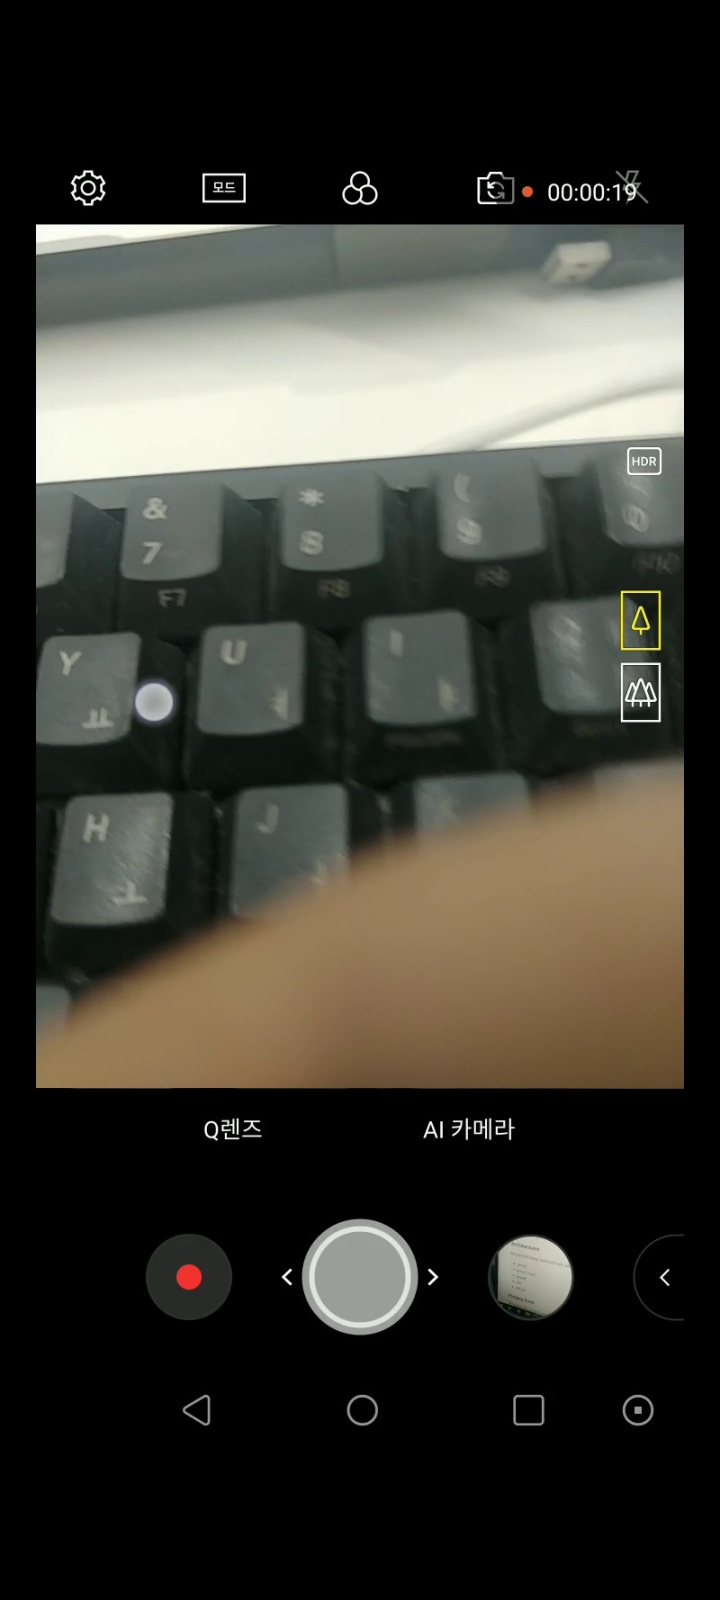Cursor: (133, 681, 178, 726)
